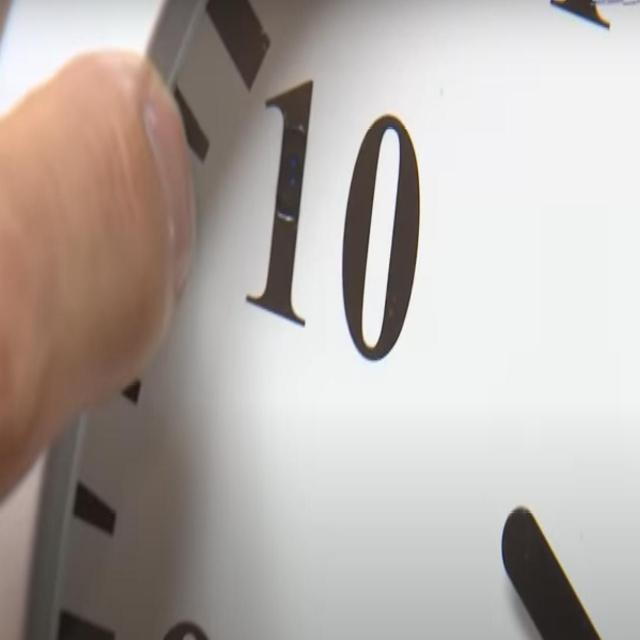hidden camera: (282, 123, 307, 212)
